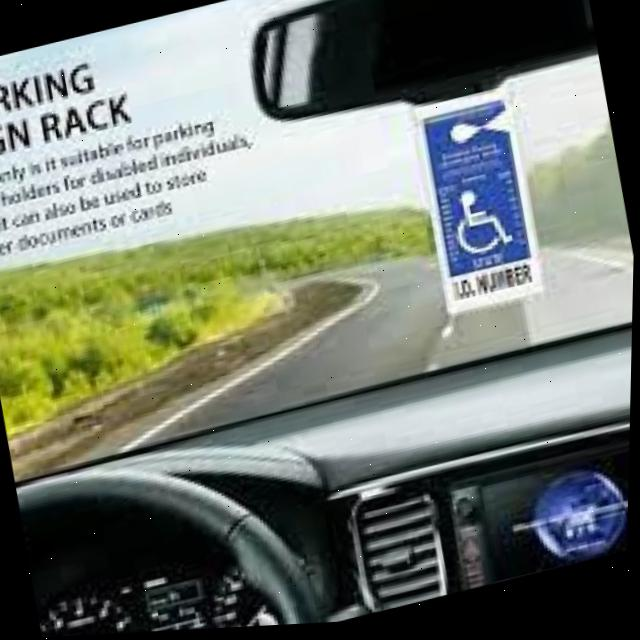symbol_of_access: (441, 180, 524, 272)
